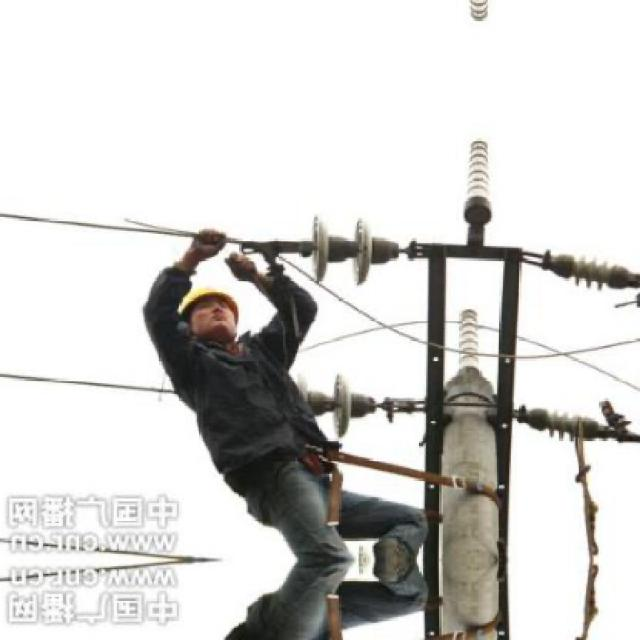helmet: (172, 265, 250, 352)
